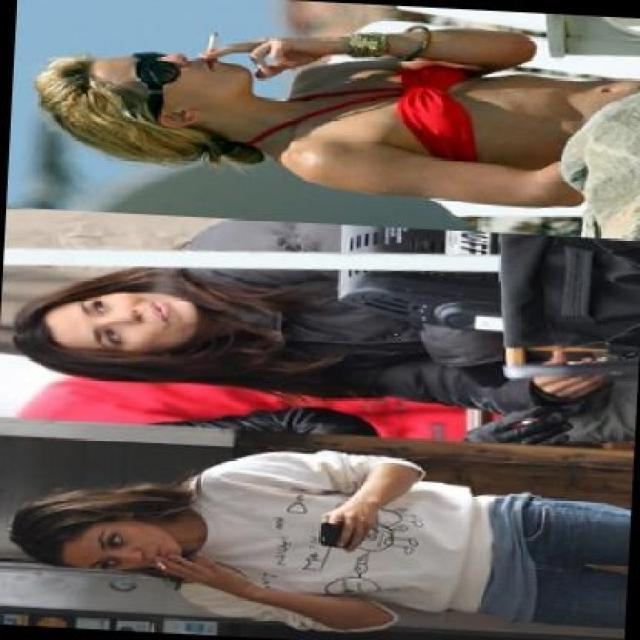cigarette: (204, 28, 218, 56), (151, 556, 167, 570)
